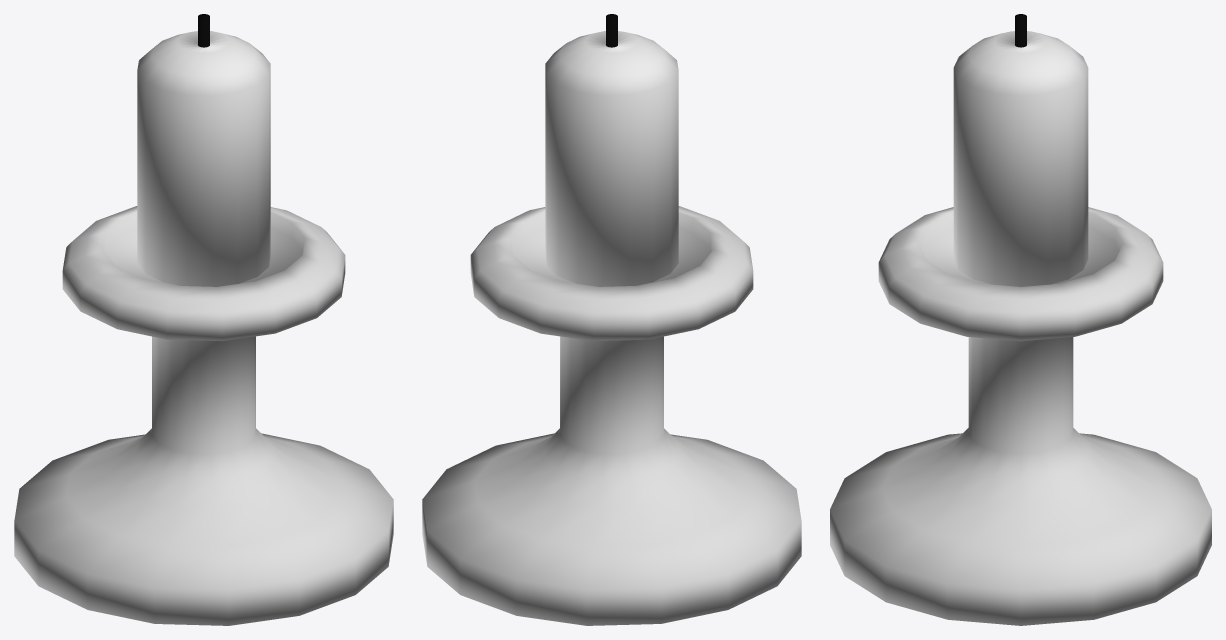
File: candleA.glb
The picture shows the model from 3 angles, left to right: view 1: azimuth 30°, elevation 25°; view 2: azimuth 150°, elevation 25°; view 3: azimuth 270°, elevation 25°; orthographic projection.
Parts seen in each view (by area): view 1: candleA_colourA, candleA_colourB; view 2: candleA_colourA, candleA_colourB; view 3: candleA_colourA, candleA_colourB.
Part boxes in pixels (bbox=[...]): candleA_colourA: bbox=[14, 206, 393, 625]; candleA_colourB: bbox=[137, 31, 270, 286]; candleA_colourA: bbox=[422, 206, 801, 625]; candleA_colourB: bbox=[545, 31, 678, 286]; candleA_colourA: bbox=[830, 207, 1211, 625]; candleA_colourB: bbox=[953, 31, 1088, 286].
Size of the model in its own units: 0.3748 by 0.5727 by 0.3748.
Materials: 3 (1 with a texture image).
